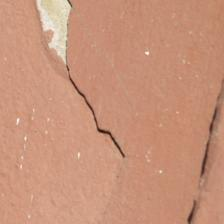Crack: (17, 0, 114, 156)
